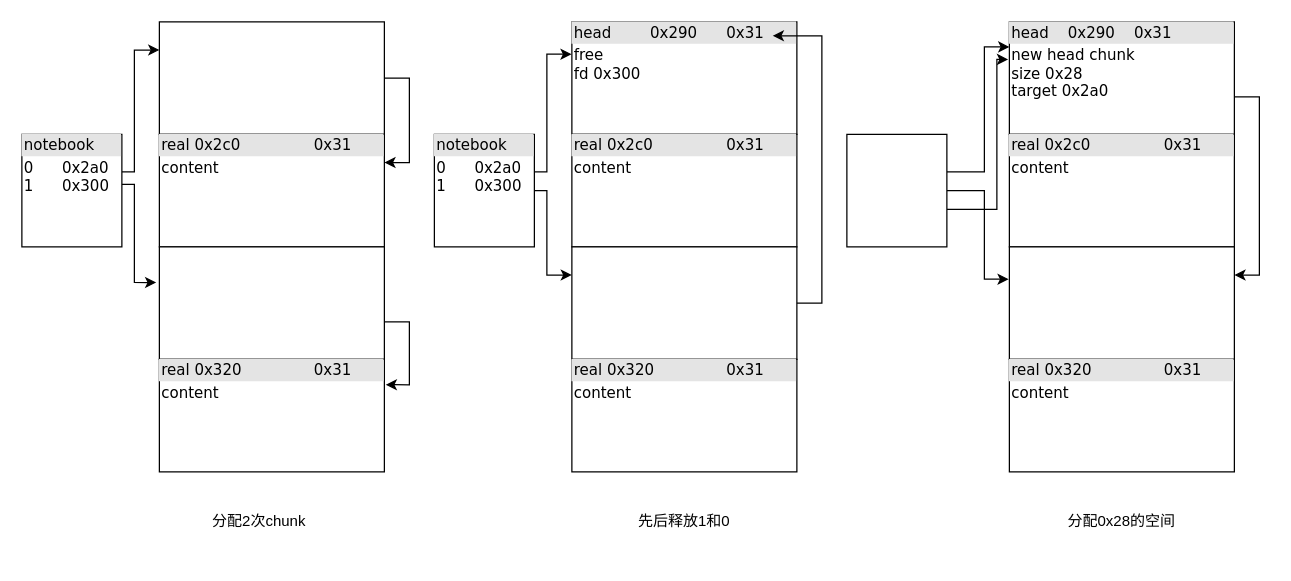
The diagram is 1291 pixels wide and 581 high, and some of its shapes have lost their labels. Here are the shapes that lost their labels. From the top down, the box of each, then its label:
(158, 21, 384, 134): head 0x290 0x31 size 0x20 target 0x2d0
(846, 133, 947, 247): notebook 0 0x2a0 1 0x300 2 0x2a0
(158, 246, 384, 359): head 0x2f0 0x31 size 0x20 target 0x330
(571, 246, 797, 359): head 0x2f0 0x31 free fd 0 target 0x330
(1008, 246, 1234, 359): head 0x2f0 0x31 new real chunk content target 0x330
